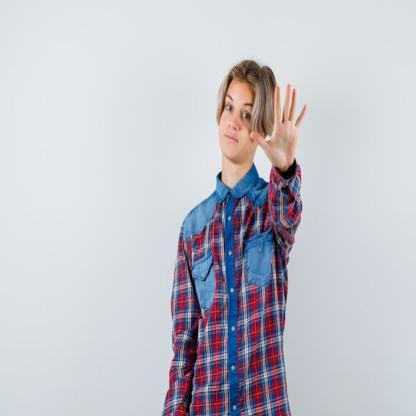stop: (250, 82, 309, 173)
